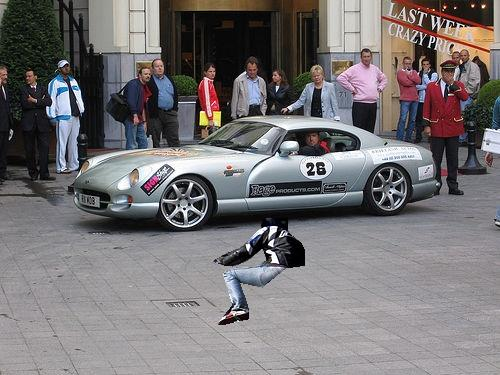tampered: (214, 219, 305, 325)
